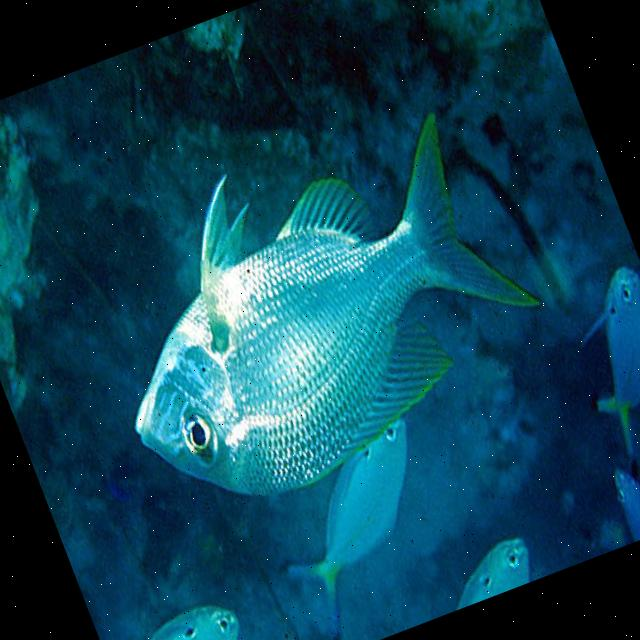ikan: (60, 84, 574, 540)
